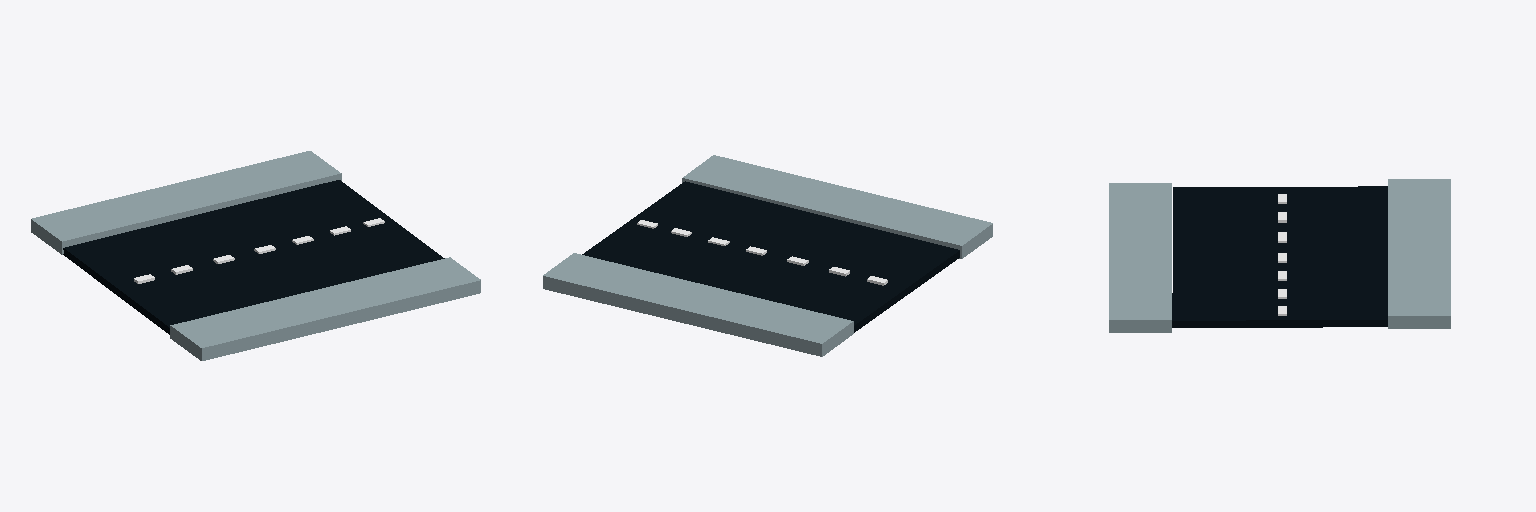
The picture shows the model from 3 angles: view 1: azimuth 30°, elevation 25°; view 2: azimuth 150°, elevation 25°; view 3: azimuth 270°, elevation 25°; orthographic projection.
Parts seen in each view (by area): view 1: group[number redacted], group[number redacted], group[number redacted]; view 2: group[number redacted], group[number redacted], group[number redacted]; view 3: group[number redacted], group[number redacted], group[number redacted].
Part boxes in pixels (x1,y1,x2,y2): group[number redacted]: (63,180,444,334); group[number redacted]: (170,257,480,360); group[number redacted]: (31,151,341,254); group[number redacted]: (582,181,959,332); group[number redacted]: (543,253,853,356); group[number redacted]: (682,155,992,258); group[number redacted]: (1172,186,1387,327); group[number redacted]: (1388,179,1450,328); group[number redacted]: (1109,183,1171,332).
Bounding box in the file's own units: 0.67 × 0.04 × 0.71.